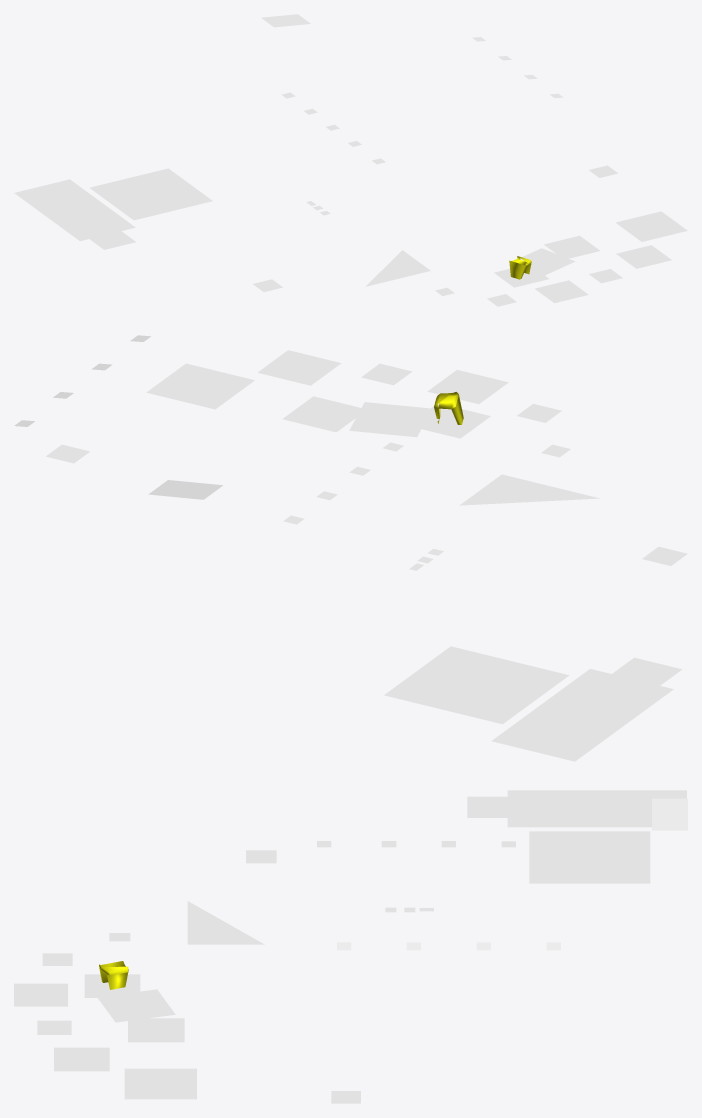
File: room.obj
3 renders of one model, top to bottom at view 1: azimuth 30°, elevation 25°; view 2: azimuth 150°, elevation 25°; view 3: azimuth 270°, elevation 25°, orthographic. The views are drawn at different scales.
Parts seen in each view (by area): view 1: vsn_mesh_0__id, vsn_mesh_1__id; view 2: vsn_mesh_0__id, vsn_mesh_1__id; view 3: vsn_mesh_0__id, vsn_mesh_1__id, vsn_mesh_2__id.
Part boxes in pixels (x1,y1,x2,y2): vsn_mesh_0__id: [14, 165, 687, 306]; vsn_mesh_1__id: [261, 14, 563, 215]; vsn_mesh_0__id: [46, 350, 687, 761]; vsn_mesh_1__id: [14, 335, 443, 570]; vsn_mesh_0__id: [14, 790, 686, 1103]; vsn_mesh_1__id: [317, 798, 687, 950]; vsn_mesh_2__id: [99, 961, 128, 989].
Bounding box in the file's own units: 148 × 34.81 × 135.
